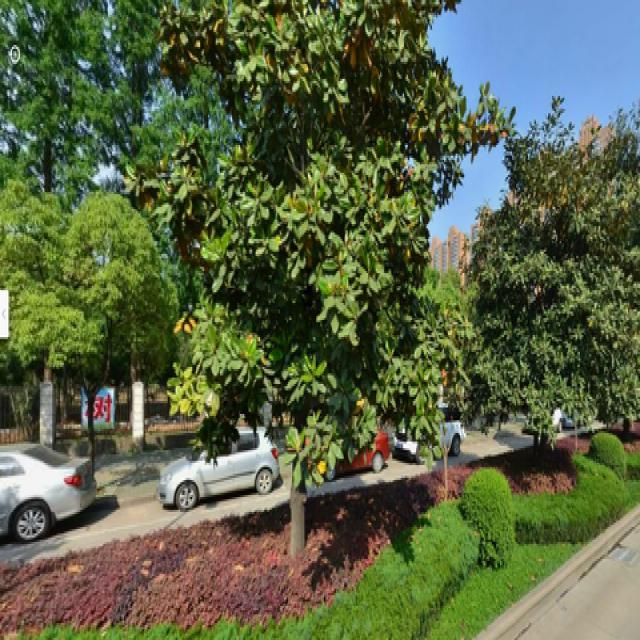magn: (196, 2, 437, 557)
